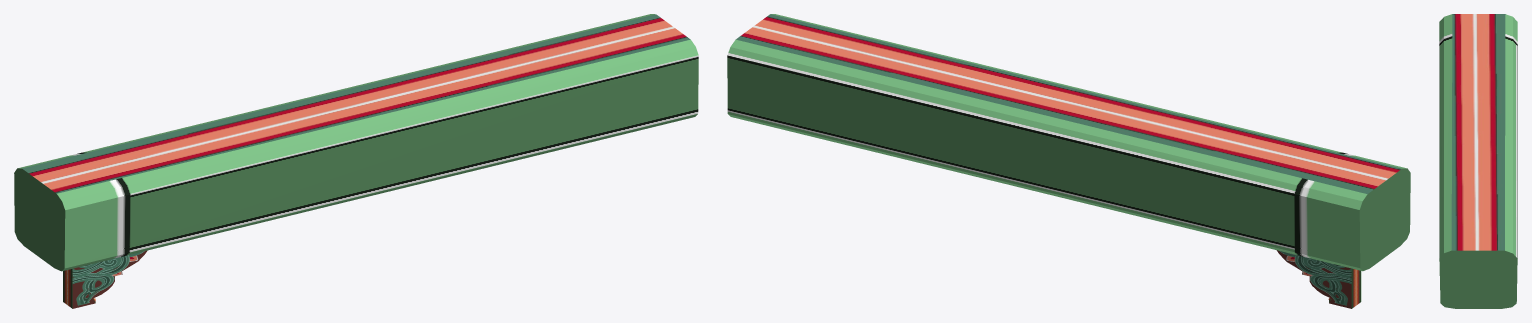
Rendered from SM_R_Beam_7.fbx.
3 renders of one model, left to right at view 1: azimuth 30°, elevation 25°; view 2: azimuth 150°, elevation 25°; view 3: azimuth 270°, elevation 25°, orthographic. The views are drawn at different scales.
Visible parts, largest first — view 1: SM_R_Beam_7; view 2: SM_R_Beam_7; view 3: SM_R_Beam_7.
Part boxes in pixels (x1=…): SM_R_Beam_7: x1=14, y1=14, x2=698, y2=308; SM_R_Beam_7: x1=727, y1=14, x2=1410, y2=308; SM_R_Beam_7: x1=1439, y1=14, x2=1517, y2=308.
Bounding box in the file's own units: 372 × 52.07 × 73.75.
4 materials, 4 textured.
